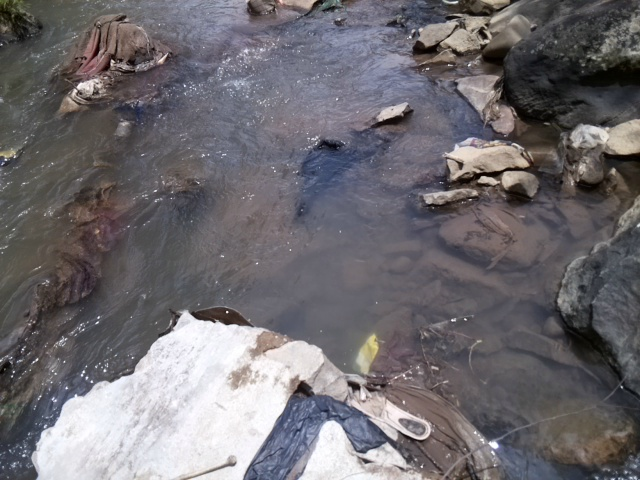Sampah_Plastik: (242, 380, 388, 480)
